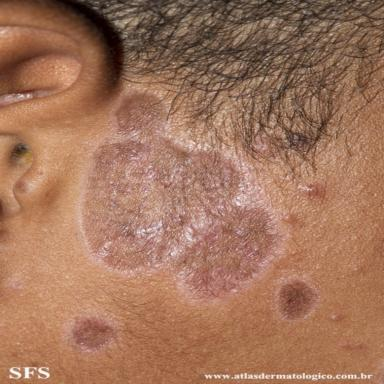Lupus-Erythematosus-Chronicus-Discoides: (83, 88, 286, 299), (276, 279, 320, 321), (72, 318, 115, 349)
